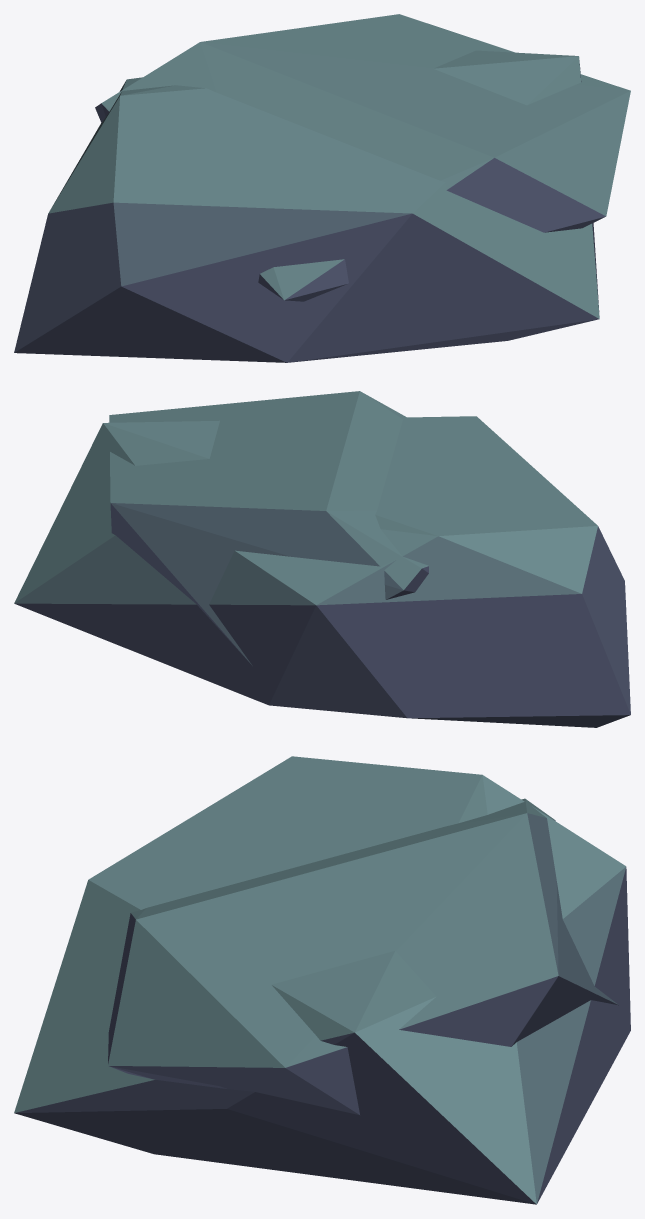
The model's file is env_rock_facet_b.glb.
The picture shows the model from 3 angles, top to bottom: view 1: azimuth 30°, elevation 25°; view 2: azimuth 150°, elevation 25°; view 3: azimuth 270°, elevation 25°; orthographic projection. The views are drawn at different scales.
Parts seen in each view (by area): view 1: lod0__rock_b, lod1__rock_b; view 2: lod0__rock_b, lod1__rock_b; view 3: lod0__rock_b, lod1__rock_b.
Boxes of the visible parts, x1,y1,x2,y2 form: lod0__rock_b: (14, 50, 599, 362); lod1__rock_b: (95, 14, 630, 301); lod0__rock_b: (14, 416, 630, 727); lod1__rock_b: (109, 391, 428, 665); lod0__rock_b: (14, 756, 630, 1204); lod1__rock_b: (108, 798, 618, 1114).
Size of the model in its own units: 3.63 by 1.27 by 2.82.
